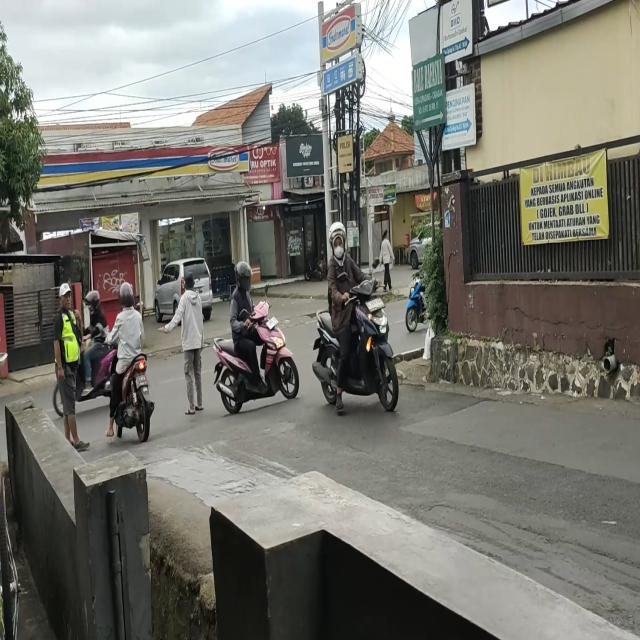helmet: (329, 224, 347, 262), (236, 261, 253, 289), (120, 284, 136, 308), (87, 293, 101, 313)
